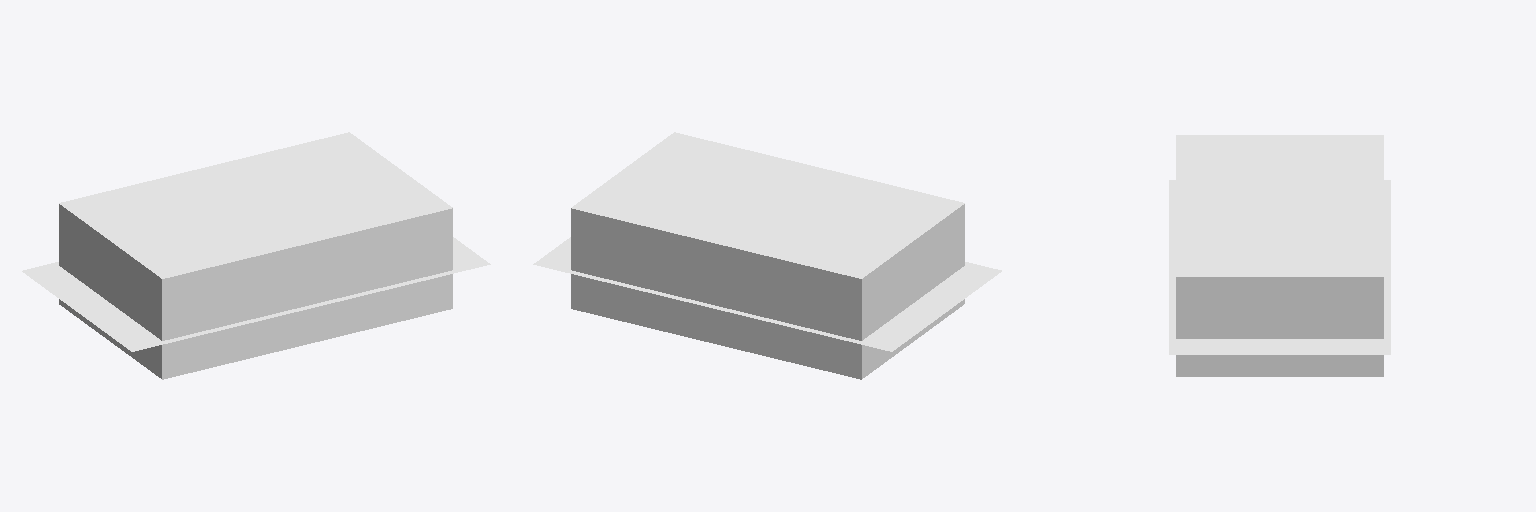
File: gallery-room-2-light.obj
The picture shows the model from 3 angles: view 1: azimuth 30°, elevation 25°; view 2: azimuth 150°, elevation 25°; view 3: azimuth 270°, elevation 25°; orthographic projection.
Visible parts, largest first — view 1: Null_Boole_1_Boole_Cube_11, Null_Plane; view 2: Null_Boole_1_Boole_Cube_11, Null_Plane; view 3: Null_Boole_1_Boole_Cube_11, Null_Plane.
Part boxes in pixels (x1,y1,x2,y2): Null_Boole_1_Boole_Cube_11: (59,132,452,379); Null_Plane: (22,237,490,351); Null_Boole_1_Boole_Cube_11: (571,132,964,379); Null_Plane: (533,237,1001,351); Null_Boole_1_Boole_Cube_11: (1176,135,1383,376); Null_Plane: (1169,180,1390,354).
Bounding box in the file's own units: 32 × 8.57 × 17.15.